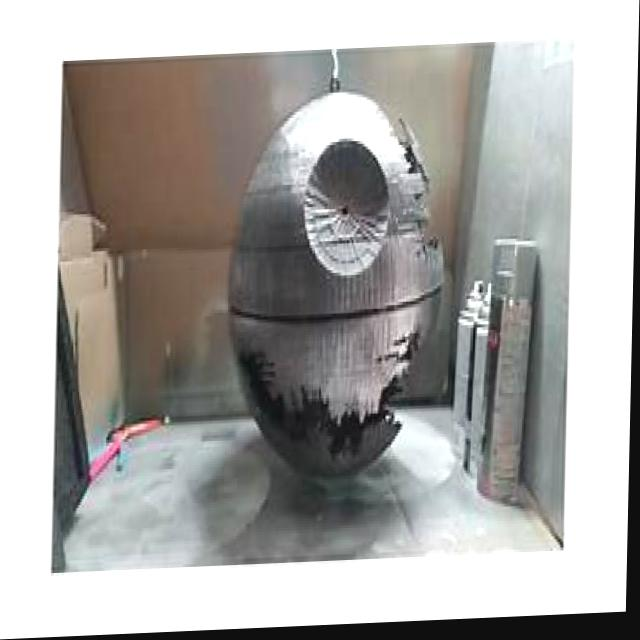deathStar: (230, 93, 451, 491)
